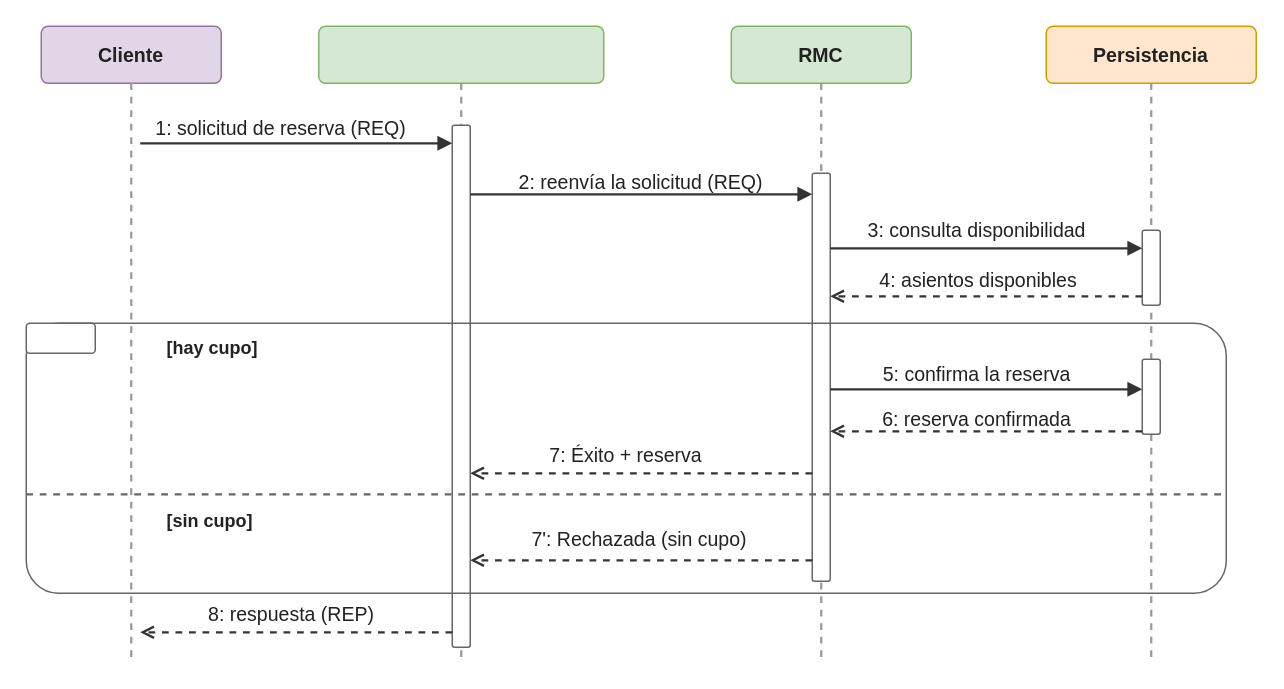
Image size: 1284x689. Some labels were removed from this diagram. The centre of each missing label's shape, as x and y in pixels:
"alt" belongs at [60,337].
"Gestor de Transacciones" belongs at [460,54].
